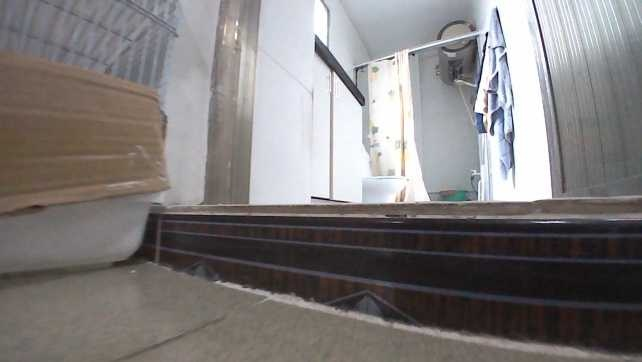door_sill: (145, 194, 640, 343)
toilet: (363, 172, 405, 203)
